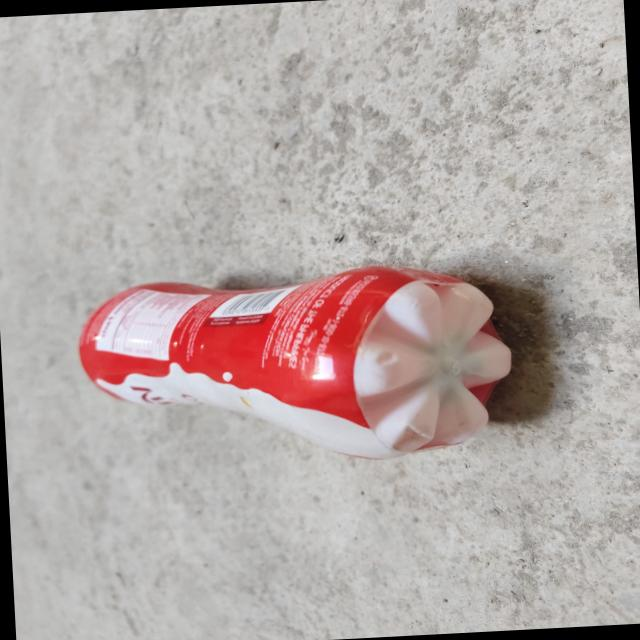Bottle: (78, 264, 517, 459)
